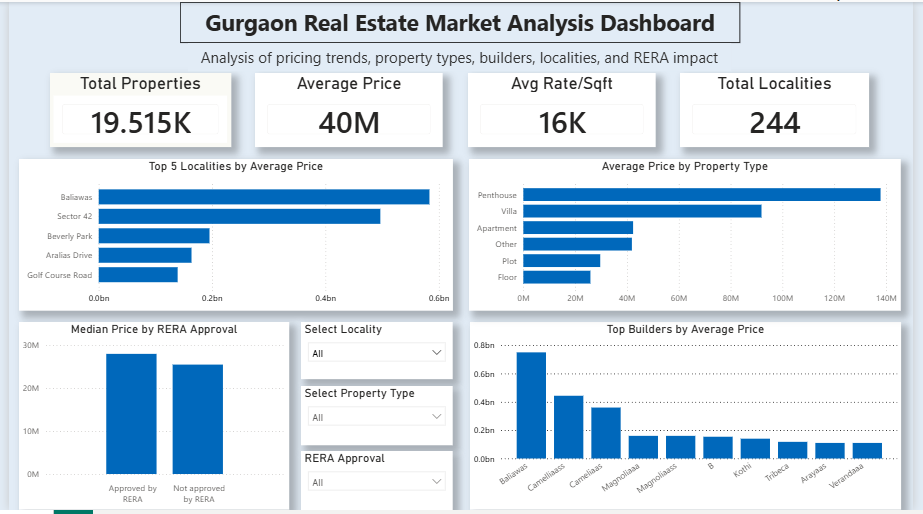

Layout of this report page (visuals, bound fields, positions):
{"tool":"powerbi","page":{"name":"Page 1","canvas":[1280,720],"ordinal":0},"visuals":[{"type":"cardVisual","title":"Total Properties","fields":{"Data":["CountNonNull(real_estate_data.Price)"]},"box":[58.1,100.6,256.5,104.9],"z":0},{"type":"cardVisual","title":"Average Price","fields":{"Data":["Avg(real_estate_data.Price)"]},"box":[349.1,100.6,266.5,104.9],"z":1000},{"type":"cardVisual","title":"Avg Rate/Sqft","fields":{"Data":["Avg(real_estate_data.Rate per sqft)"]},"box":[650.1,100.6,266.5,104.9],"z":2000},{"type":"cardVisual","title":"Total Localities","fields":{"Data":["Count(real_estate_data.Locality)"]},"box":[951,100.6,267.9,104.9],"z":3000},{"type":"textbox","box":[242.4,0,793.7,58.1],"z":4000},{"type":"clusteredBarChart","title":"Top 5 Localities by Average Price","fields":{"Category":["real_estate_data.Locality"],"Y":["Avg(real_estate_data.Price)"]},"box":[14.2,222.5,615.1,215.4],"z":4001},{"type":"clusteredColumnChart","title":"Top Builders by Average Price","fields":{"Category":["real_estate_data.Company Name"],"Y":["Avg(real_estate_data.Price)"]},"box":[653.4,453.5,610.9,266.5],"z":4004},{"type":"clusteredBarChart","title":"Average Price by Property Type","fields":{"Y":["Avg(real_estate_data.Price)"],"Category":["real_estate_data.Clean_Property_Type"]},"box":[652,222.5,612.3,215.4],"z":4005},{"type":"clusteredColumnChart","title":"Median Price by RERA Approval","fields":{"Category":["real_estate_data.RERA Approval"],"Y":["Median(real_estate_data.Price)"]},"box":[14.2,453.5,382.7,266.5],"z":4006},{"type":"slicer","title":"Select Locality","fields":{"Values":["real_estate_data.Locality"]},"box":[413.9,453.5,215.4,80.8],"z":4007},{"type":"slicer","title":"Select Property Type","fields":{"Values":["real_estate_data.Clean_Property_Type"]},"box":[413.9,544.3,215.4,83.6],"z":4008},{"type":"slicer","title":"RERA Approval","fields":{"Values":["real_estate_data.RERA Approval"]},"box":[413.9,636.4,215.4,83.6],"z":4009},{"type":"textbox","box":[253.7,58.1,769.6,39.7],"z":4010}]}

Visuals, with their boxes in screenshot pixels (x1, y1, x2, y2), scaled from the page's 1280x720 canvas onto the 923x514 screenshot:
"Total Properties" cardVisual: (x1=42, y1=72, x2=227, y2=147)
"Average Price" cardVisual: (x1=252, y1=72, x2=444, y2=147)
"Avg Rate/Sqft" cardVisual: (x1=469, y1=72, x2=661, y2=147)
"Total Localities" cardVisual: (x1=686, y1=72, x2=879, y2=147)
textbox: (x1=175, y1=0, x2=747, y2=41)
"Top 5 Localities by Average Price" clusteredBarChart: (x1=10, y1=159, x2=454, y2=313)
"Top Builders by Average Price" clusteredColumnChart: (x1=471, y1=324, x2=912, y2=513)
"Average Price by Property Type" clusteredBarChart: (x1=470, y1=159, x2=912, y2=313)
"Median Price by RERA Approval" clusteredColumnChart: (x1=10, y1=324, x2=286, y2=513)
"Select Locality" slicer: (x1=298, y1=324, x2=454, y2=381)
"Select Property Type" slicer: (x1=298, y1=389, x2=454, y2=448)
"RERA Approval" slicer: (x1=298, y1=454, x2=454, y2=513)
textbox: (x1=183, y1=41, x2=738, y2=70)
